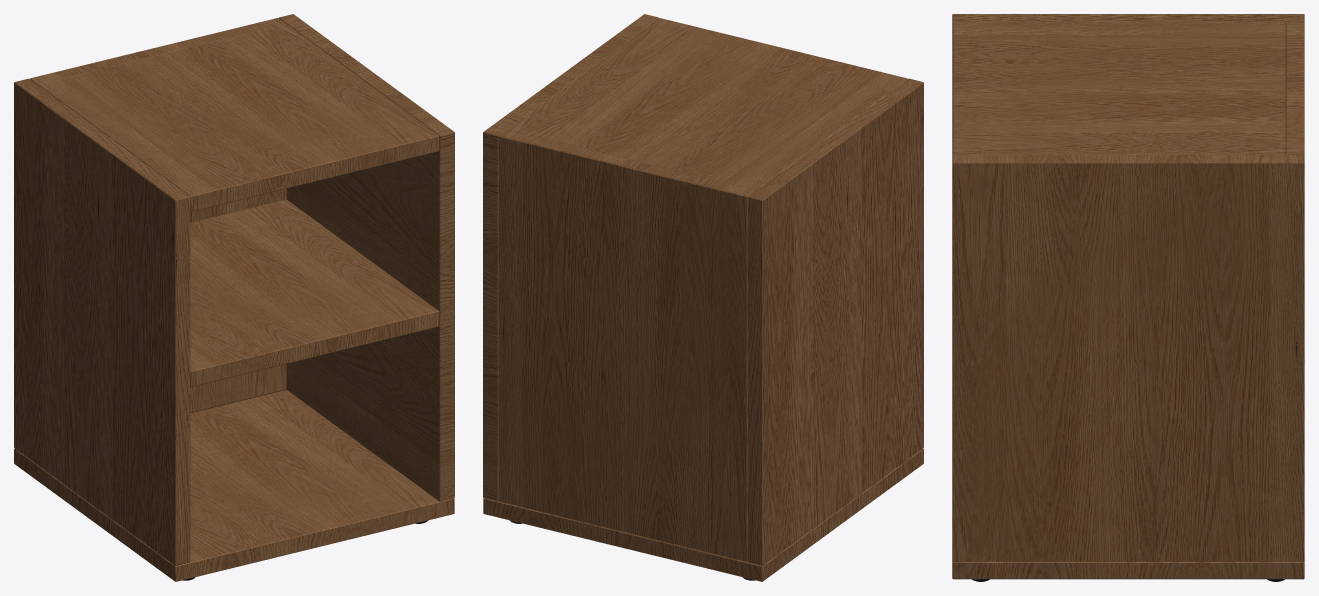
File: meuble.glb
3 renders of one model, left to right at view 1: azimuth 30°, elevation 25°; view 2: azimuth 150°, elevation 25°; view 3: azimuth 270°, elevation 25°, orthographic. The views are drawn at different scales.
Visible parts, largest first — view 1: left, Top, right, Bottom, Middle, Plane; view 2: Plane, left, Top, right, Bottom; view 3: right, Top, Bottom, left, Plane.
Boxes of the visible parts, x1,y1,x2,y2 form: left: [14, 78, 190, 565]; Top: [38, 24, 439, 211]; right: [279, 14, 454, 501]; Bottom: [14, 389, 454, 581]; Middle: [190, 199, 439, 386]; Plane: [30, 18, 286, 412]; Plane: [498, 129, 755, 561]; left: [747, 78, 923, 565]; Top: [508, 18, 907, 190]; right: [483, 14, 658, 501]; Bottom: [483, 448, 923, 581]; right: [952, 154, 1304, 561]; Top: [952, 22, 1285, 154]; Bottom: [952, 561, 1304, 579]; left: [952, 14, 1304, 154]; Plane: [1285, 22, 1304, 154].
Bounding box in the file's own units: 0.4 × 0.5365 × 0.4.
Materials: 3 (2 with a texture image).
